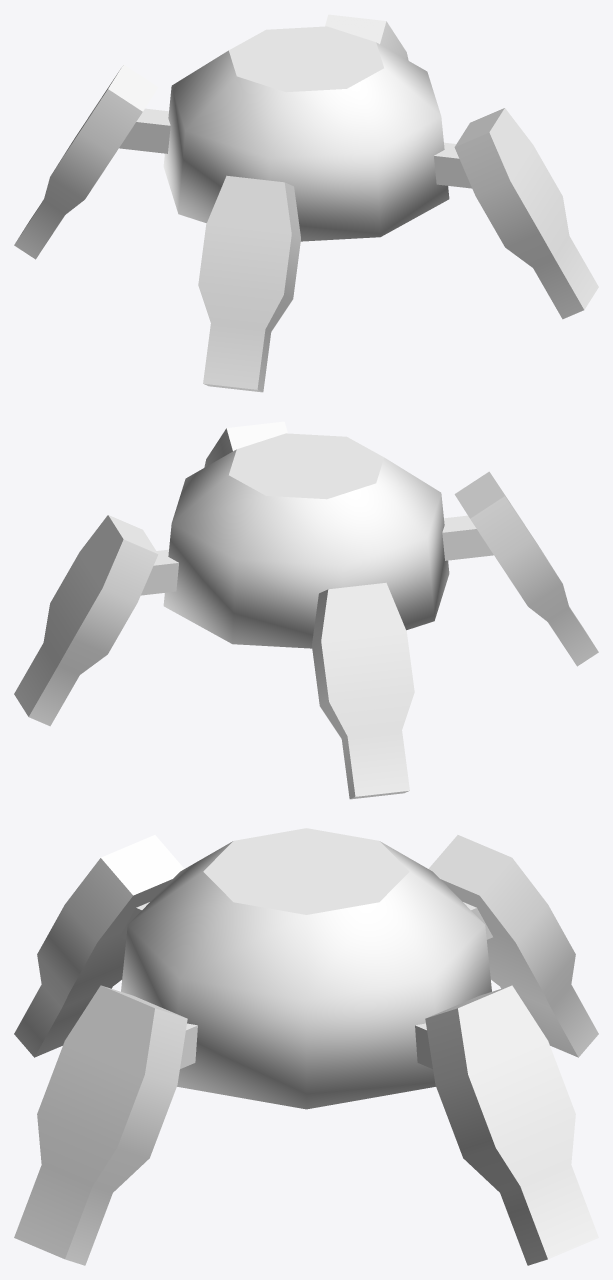
Rendered from mine.FBX.
3 views of the same model, one above another, from view 1: azimuth 30°, elevation 25°; view 2: azimuth 150°, elevation 25°; view 3: azimuth 270°, elevation 25° (orthographic). The views are drawn at different scales.
Visible parts, largest first — view 1: Cylinder001; view 2: Cylinder001; view 3: Cylinder001.
Boxes of the visible parts, left/top/right/bottom form: Cylinder001: left=14, top=14, right=598, bottom=392; Cylinder001: left=14, top=421, right=598, bottom=799; Cylinder001: left=14, top=828, right=598, bottom=1265.
Bounding box in the file's own units: 107 × 107 × 56.44.
Materials: 1 (1 with a texture image).
